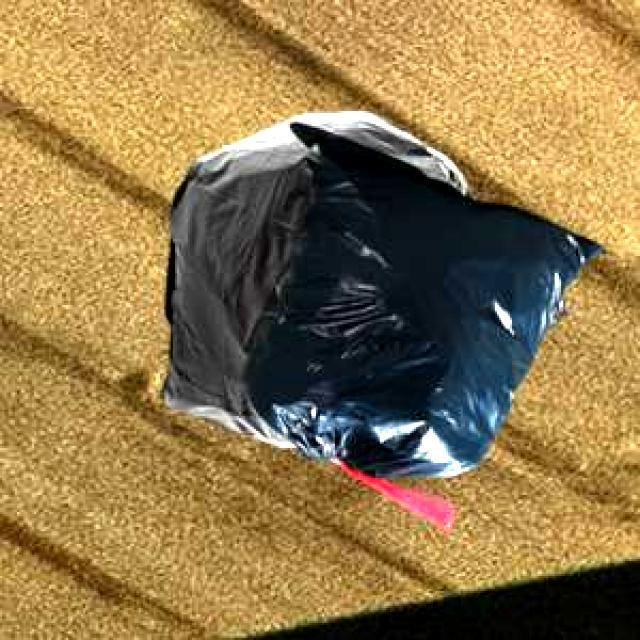Garbage_Bag: (238, 120, 603, 526), (158, 110, 568, 445)
